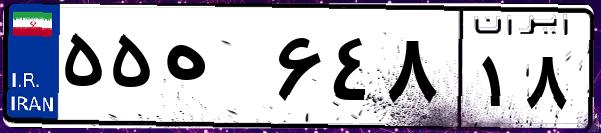1: (475, 38, 525, 113)
4: (330, 28, 385, 110)
5: (57, 26, 110, 100), (110, 28, 158, 98)
6: (270, 28, 330, 110)
8: (385, 28, 445, 110), (525, 38, 570, 115)
ه: (158, 20, 270, 120)
